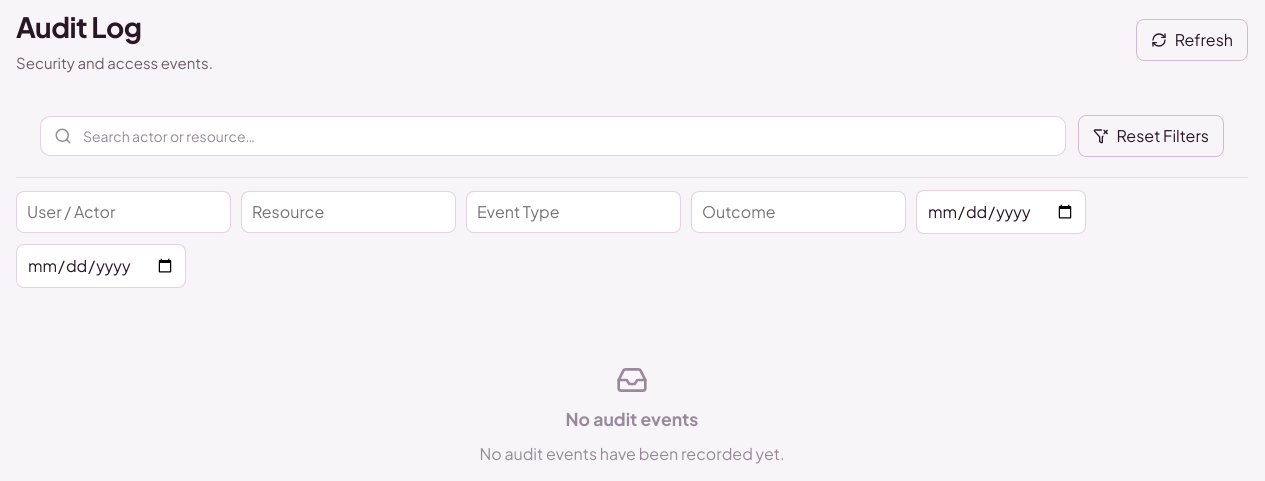
Test case: AuditLog › explains that filters caused the empty result and keeps Reset available
Expected: the element with test id "empty-state" is shown, [479,364,785,464]
Type "nothing-matches-this" into the field named "search audit logs by actor or resource" at (553, 136), box [40,116,1066,156]
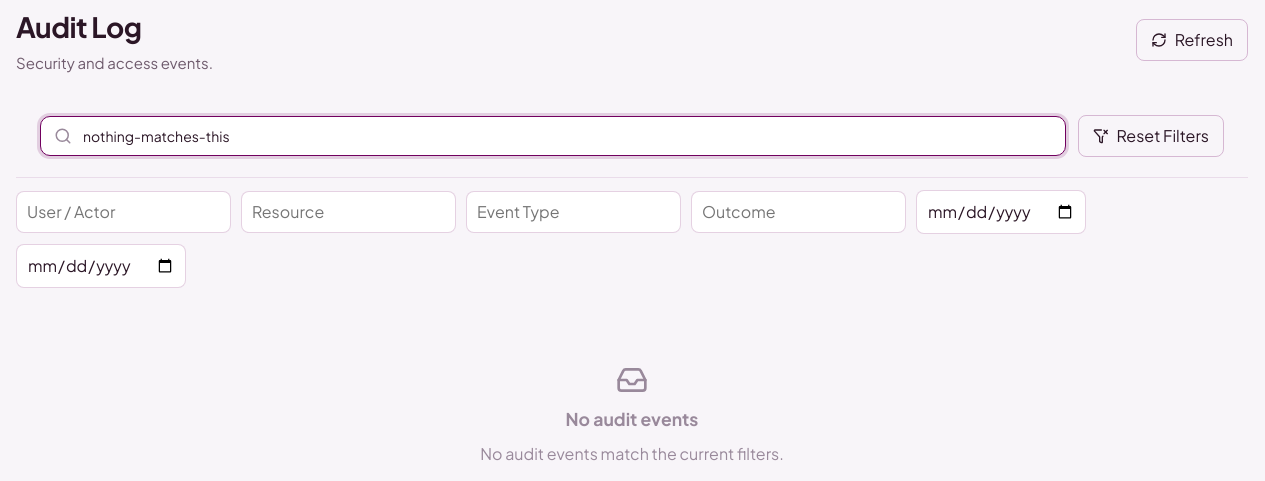
Expected: the button "Reset Filters" is shown, [1078,114,1224,156]
Expected: the element with test id "empty-state" shows "No audit events match the current filters.", [480,443,784,464]
